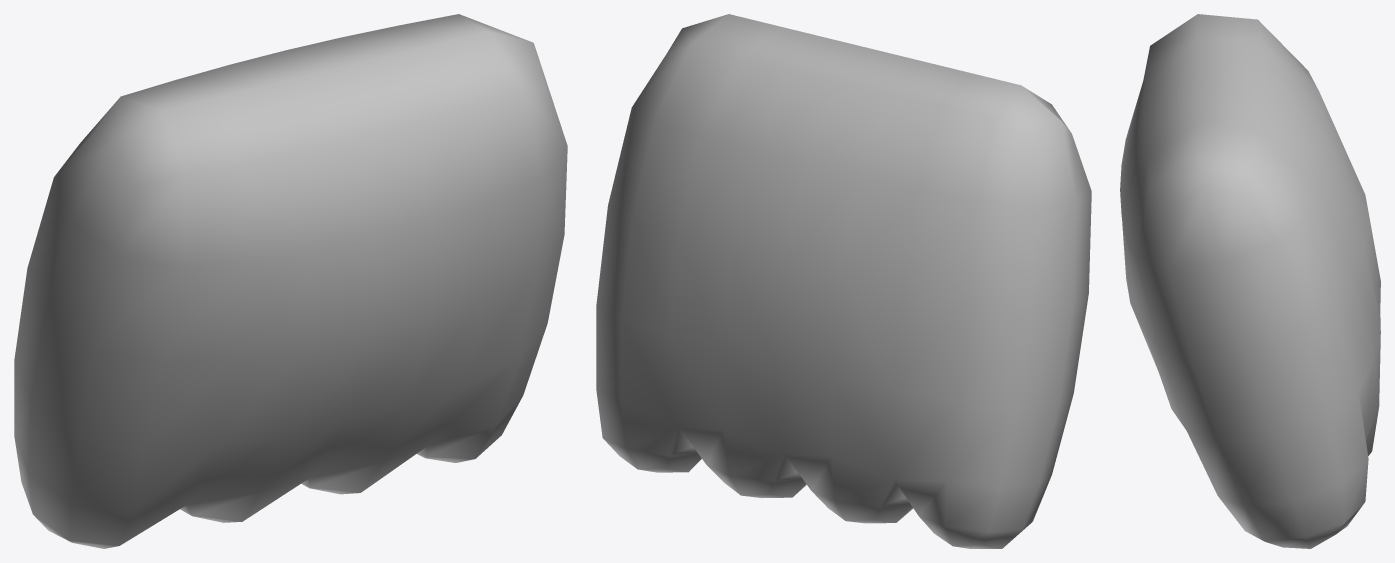
Rendered from Mustache_White_001.glb.
3 renders of one model, left to right at view 1: azimuth 30°, elevation 25°; view 2: azimuth 150°, elevation 25°; view 3: azimuth 270°, elevation 25°, orthographic. The views are drawn at different scales.
Parts seen in each view (by area): view 1: Mustache_White_001; view 2: Mustache_White_001; view 3: Mustache_White_001.
Part boxes in pixels (x1,y1,x2,y2): Mustache_White_001: [14, 14, 567, 548]; Mustache_White_001: [596, 14, 1091, 548]; Mustache_White_001: [1120, 14, 1380, 548].
Size of the model in its own units: 0.0818 by 0.0731 by 0.044.
Materials: 1 (1 with a texture image).
